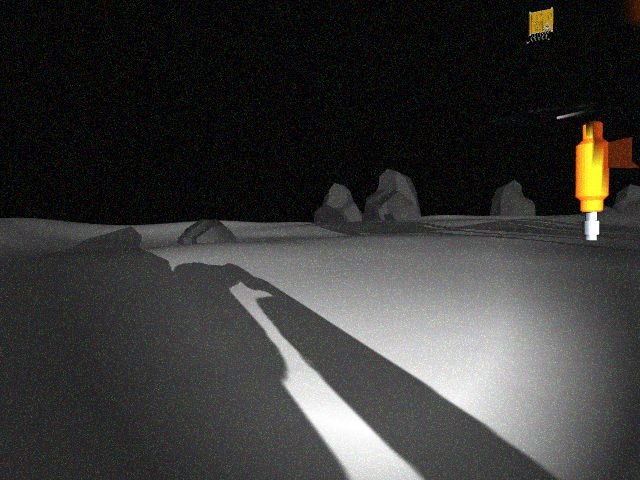cubesat: (520, 4, 564, 46)
